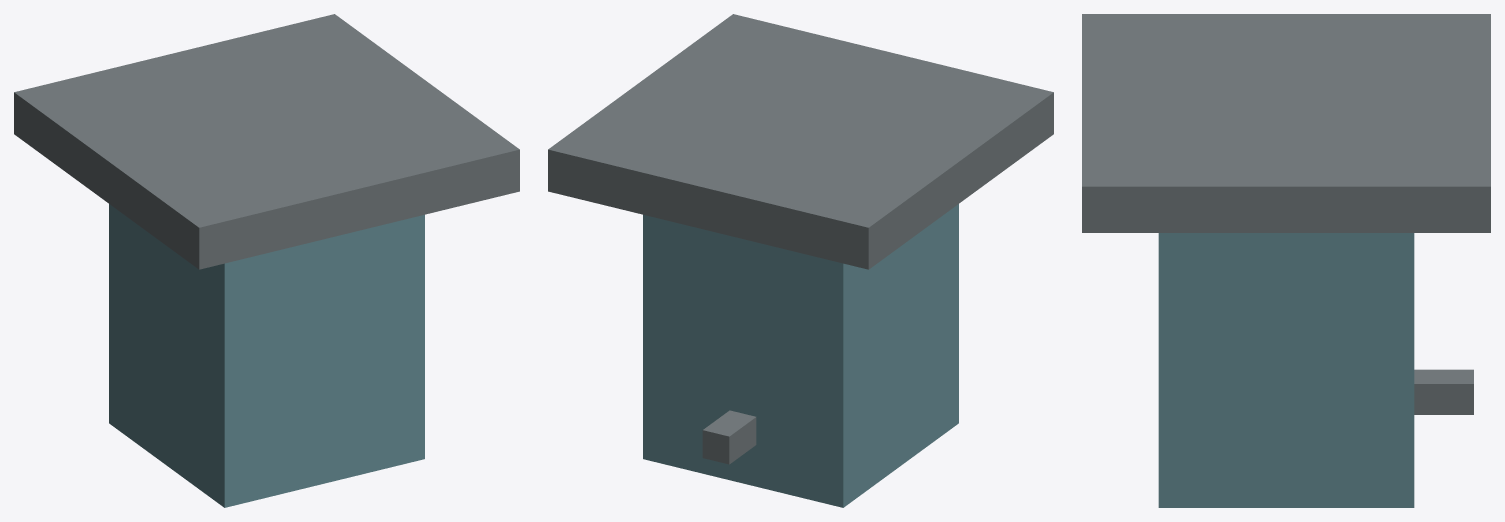
File: rain_collector.glb
The picture shows the model from 3 angles, left to right: view 1: azimuth 30°, elevation 25°; view 2: azimuth 150°, elevation 25°; view 3: azimuth 270°, elevation 25°; orthographic projection. The views are drawn at different scales.
Visible parts, largest first — view 1: body; view 2: body; view 3: body.
Part boxes in pixels (<box>): body: <box>14,14,519,507</box>; body: <box>548,14,1053,507</box>; body: <box>1082,14,1490,507</box>.
Size of the model in its own units: 1.2 by 1.14 by 1.2.
